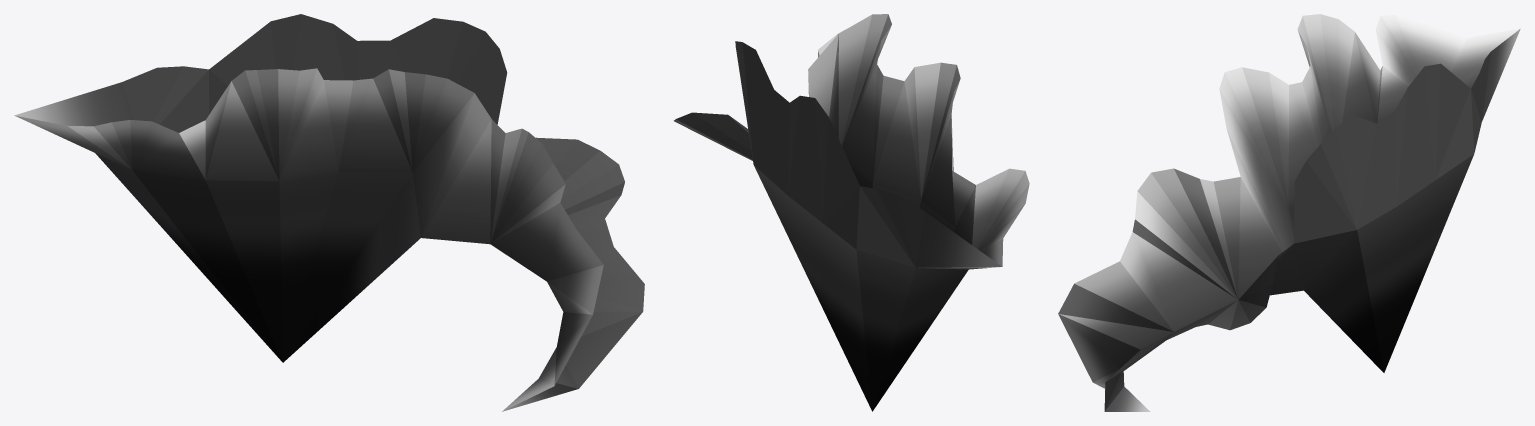
3 views of the same model, side by side, from view 1: azimuth 30°, elevation 25°; view 2: azimuth 150°, elevation 25°; view 3: azimuth 270°, elevation 25° (orthographic). The views are drawn at different scales.
Visible parts, largest first — view 1: B_0034_2b_0; view 2: B_0034_2b_0; view 3: B_0034_2b_0.
Part boxes in pixels (left/top/right/bottom): B_0034_2b_0: left=14, top=14, right=644, bottom=411; B_0034_2b_0: left=674, top=14, right=1029, bottom=411; B_0034_2b_0: left=1058, top=14, right=1520, bottom=411.
Size of the model in its own units: 2.05 by 1.39 by 1.74.
1 material, 1 textured.
